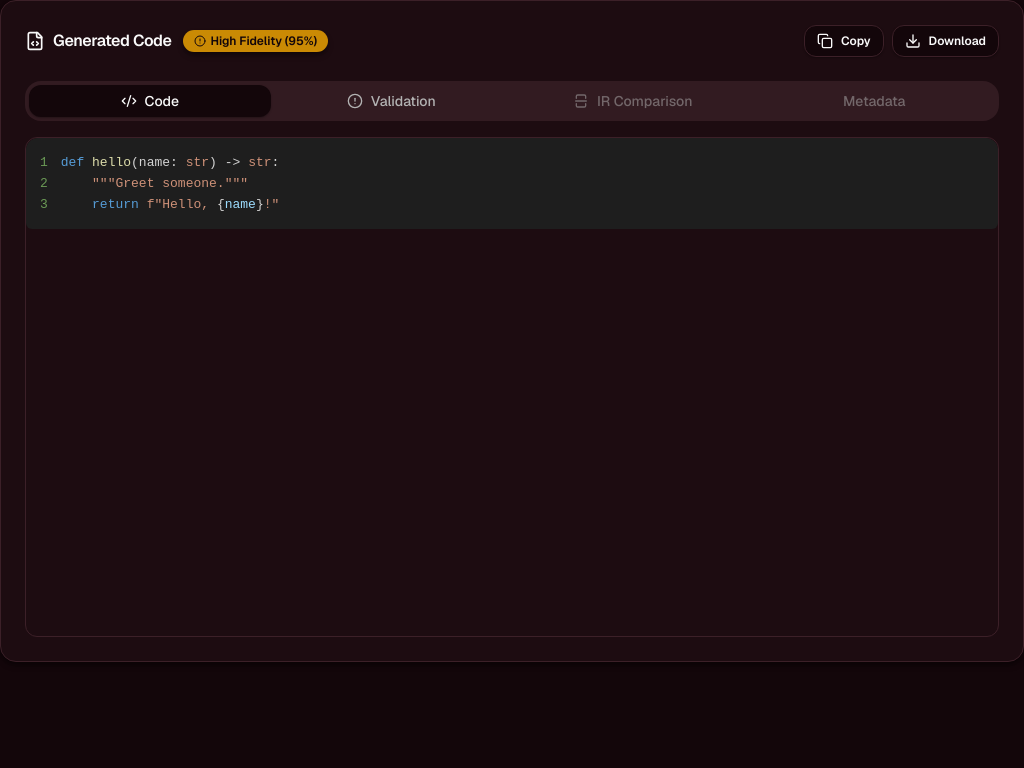
it: CodePreview › switches to validation tab when clicked
Click the tab "Validation". click: (391, 101)
box: [270,85,512,117]
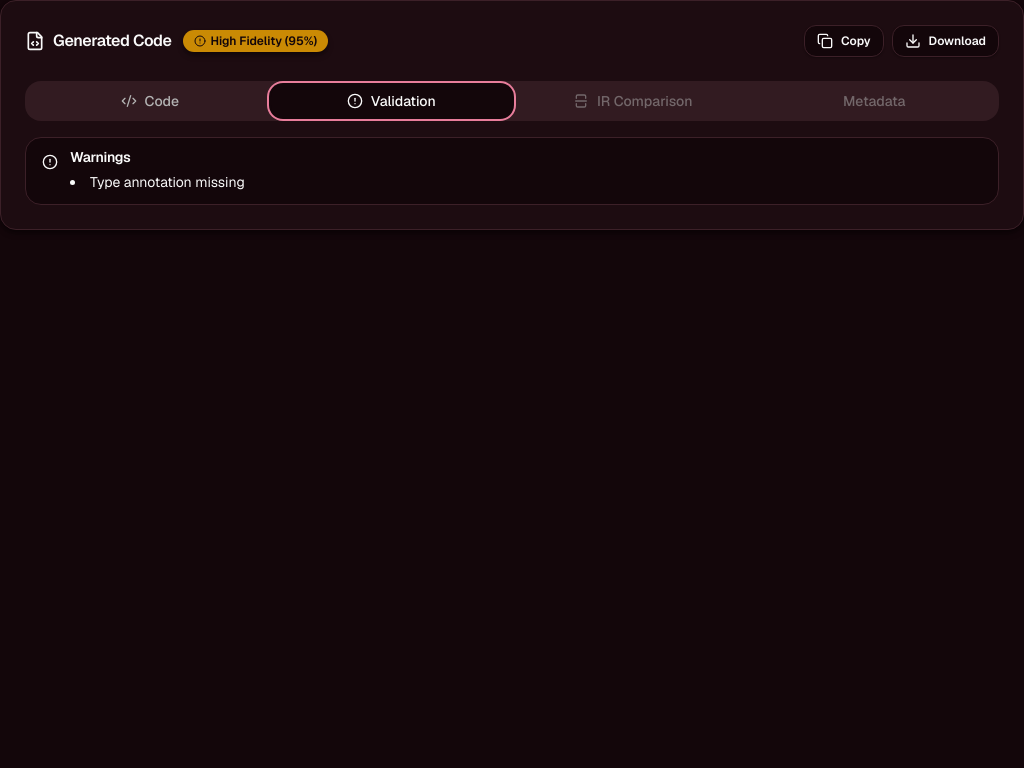
Now the heading "Warnings" is shown, box [70,148,130,166]
Now the list item "Type annotation missing" is shown, box [90,173,245,191]
